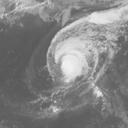cyclone: (47, 35, 99, 83)
